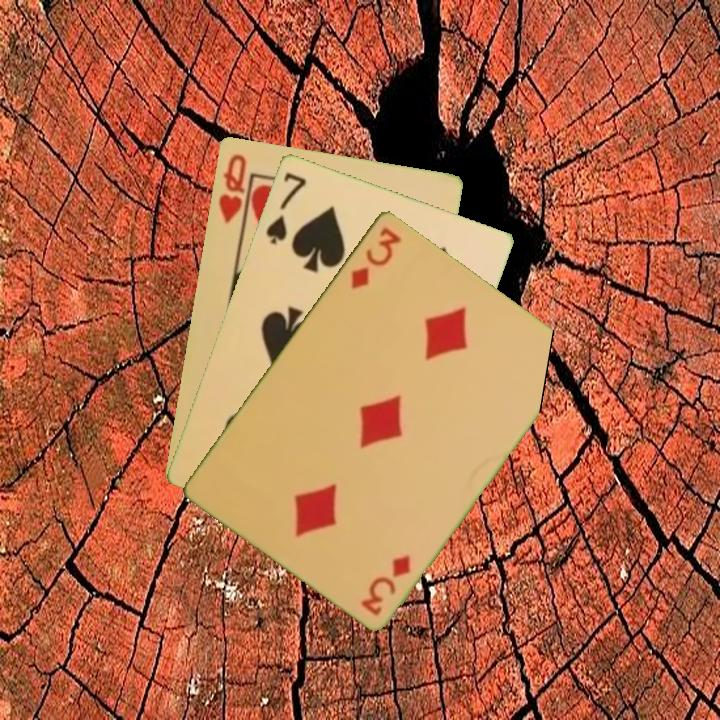3d: (347, 223, 404, 292), (357, 550, 414, 618)
7s: (262, 168, 309, 247)
Qh: (215, 150, 249, 226)
